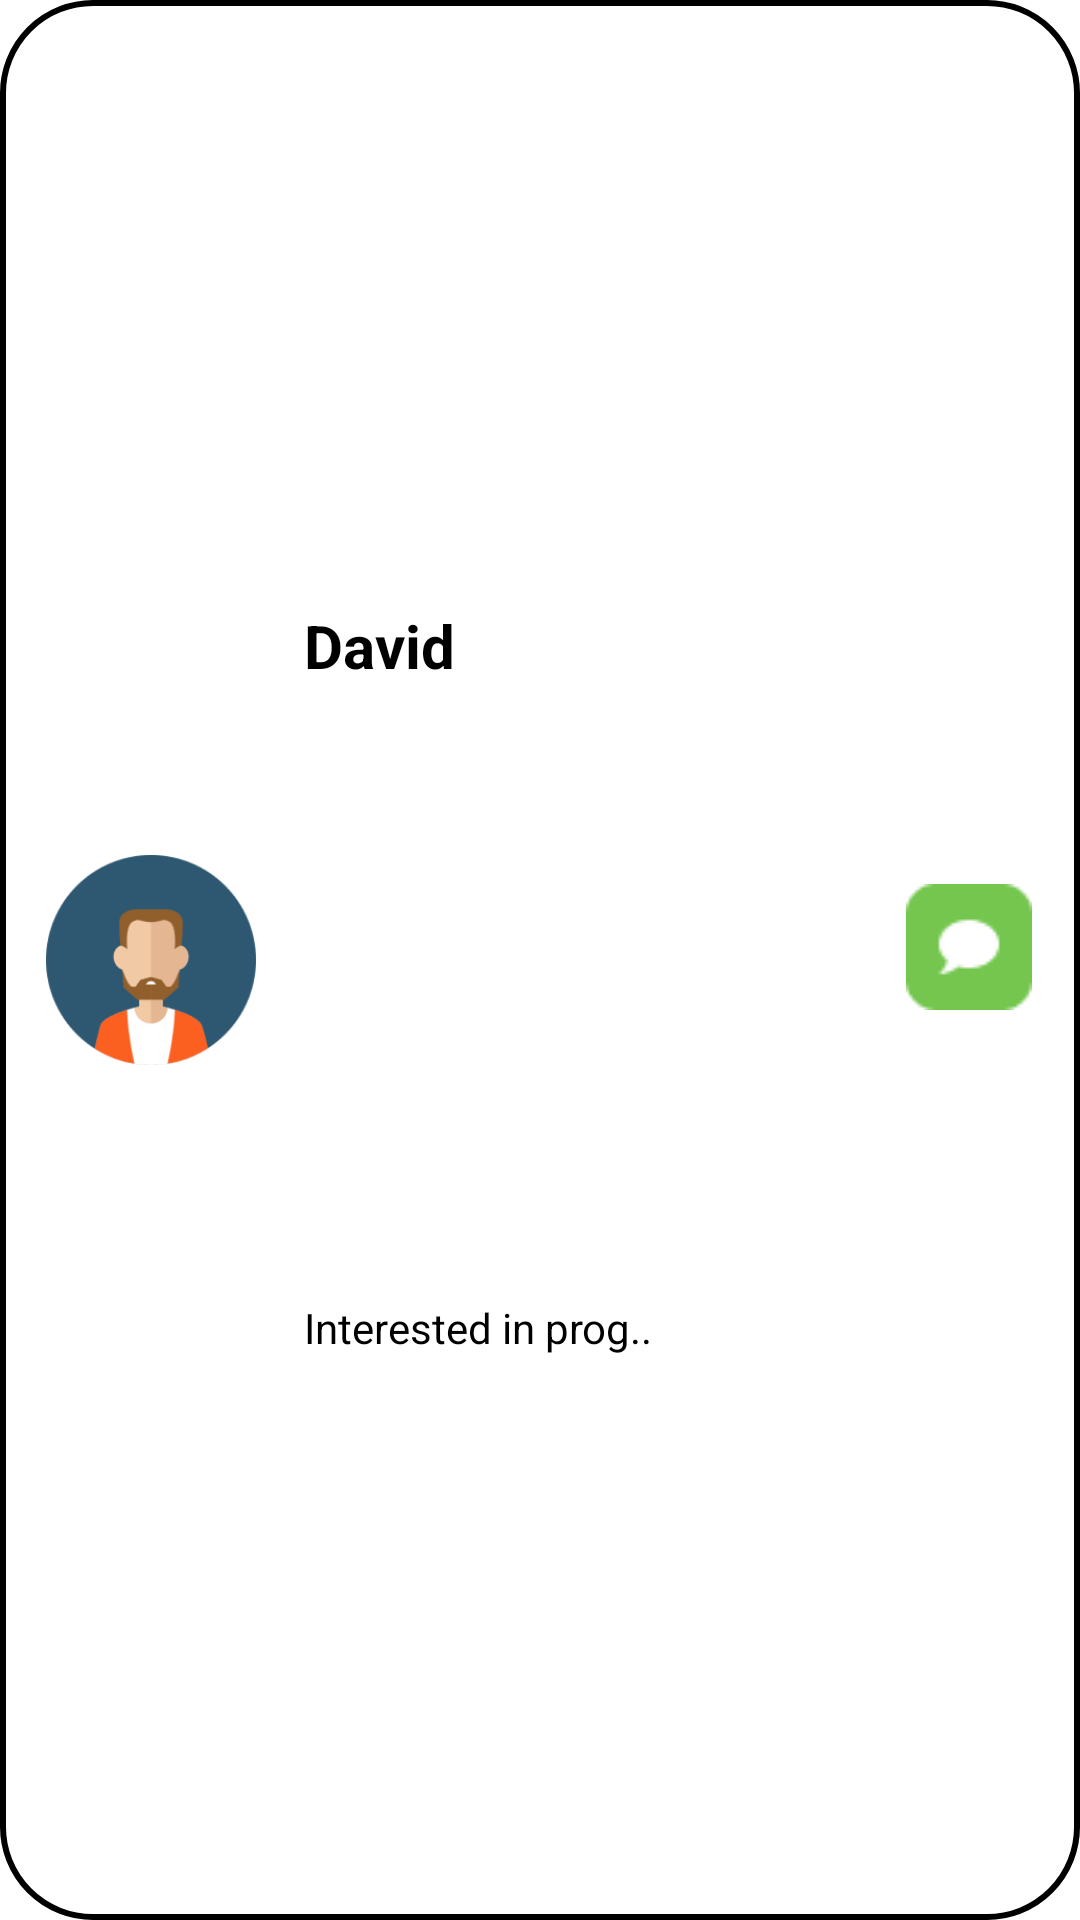

Icon click points for this 1080 × 1920 phone screenshot, format [x,y]:
profilepic: [151,959]
